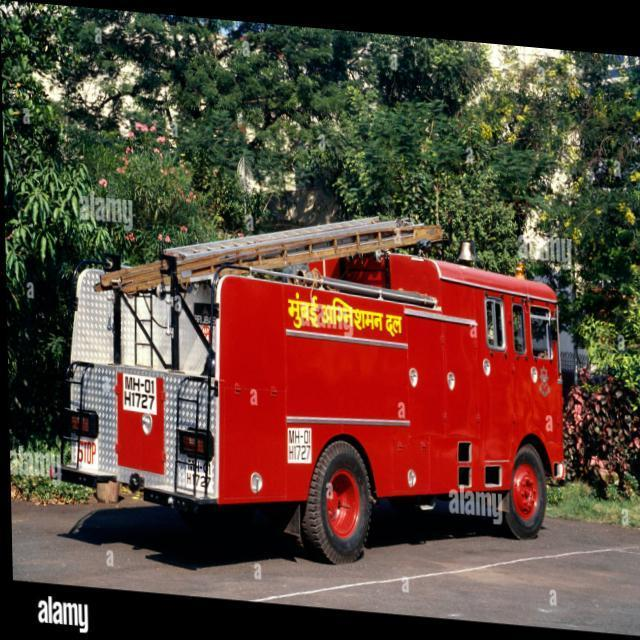Ambulance: (45, 180, 570, 578), (9, 464, 640, 628)
